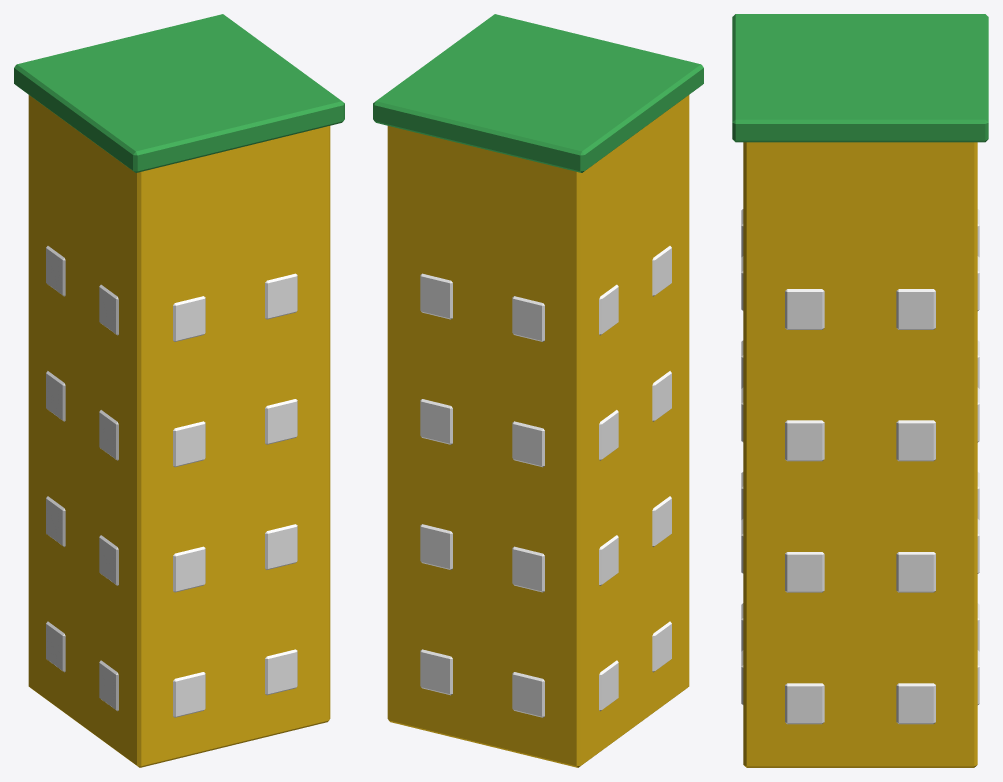
The model's file is building_tall.glb.
3 views of the same model, side by side, from view 1: azimuth 30°, elevation 25°; view 2: azimuth 150°, elevation 25°; view 3: azimuth 270°, elevation 25° (orthographic). The views are drawn at different scales.
Parts seen in each view (by area): view 1: building_tall; view 2: building_tall; view 3: building_tall.
Boxes of the visible parts, x1=… form: building_tall: x1=14, y1=14, x2=344, y2=767; building_tall: x1=373, y1=14, x2=703, y2=767; building_tall: x1=732, y1=14, x2=988, y2=767.
Size of the model in its own units: 0.46 by 1.29 by 0.46.
